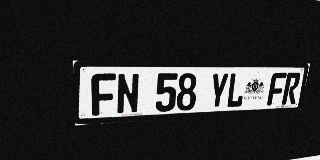5: (155, 73, 178, 112)
8: (176, 73, 198, 111)
F: (91, 73, 116, 116), (267, 73, 287, 106)
L: (225, 73, 247, 108)
N: (116, 73, 140, 114)
R: (281, 73, 301, 105)
Y: (208, 73, 229, 109)
